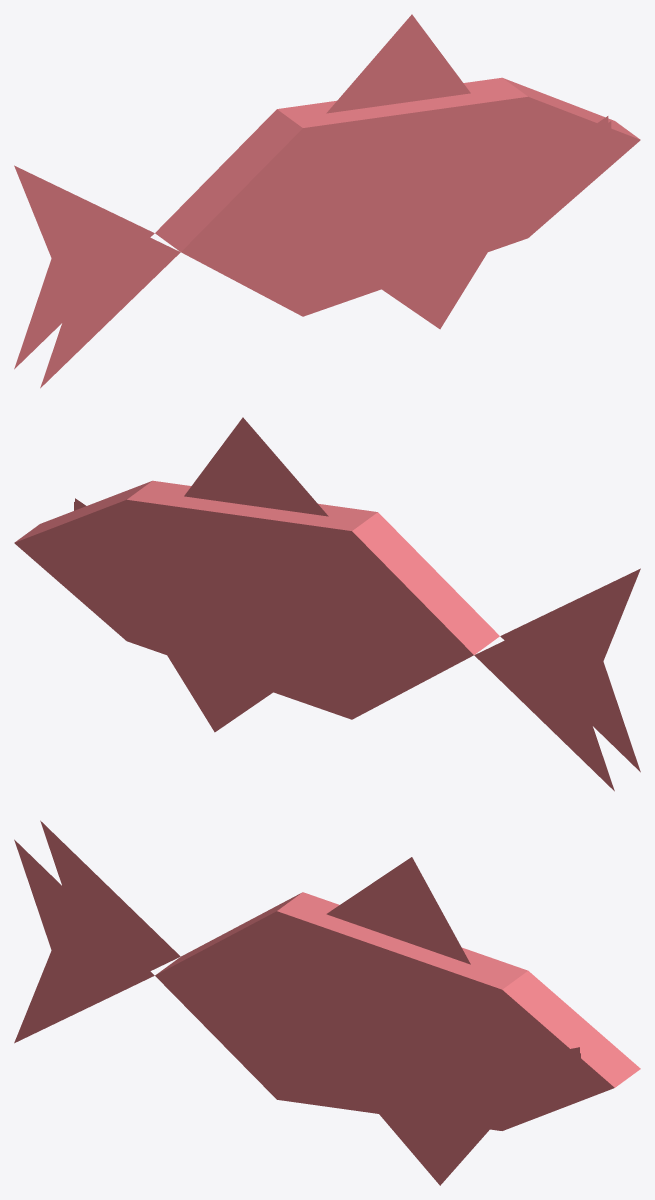
File: crimson-sea-bream.gltf
The picture shows the model from 3 angles, top to bottom: view 1: azimuth 30°, elevation 25°; view 2: azimuth 150°, elevation 25°; view 3: azimuth 330°, elevation 25°; orthographic projection.
Visible parts, largest first — view 1: crimson_sea_bream; view 2: crimson_sea_bream; view 3: crimson_sea_bream.
Boxes of the visible parts, x1,y1,x2,y2 form: crimson_sea_bream: [14, 14, 640, 388]; crimson_sea_bream: [14, 417, 640, 791]; crimson_sea_bream: [14, 820, 640, 1185].
Bounding box in the file's own units: 3.2 × 1.64 × 0.26.
